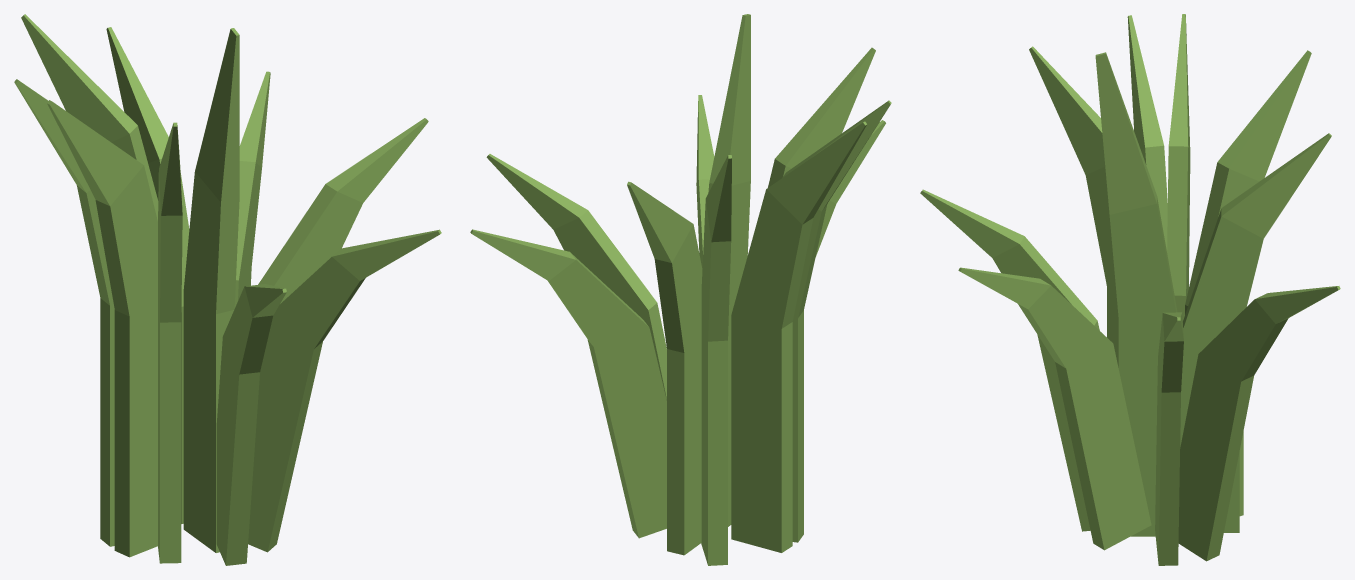
The model's file is grass1.fbx.
The picture shows the model from 3 angles, left to right: view 1: azimuth 30°, elevation 25°; view 2: azimuth 150°, elevation 25°; view 3: azimuth 270°, elevation 25°; orthographic projection. The views are drawn at different scales.
Visible parts, largest first — view 1: Cube.074; view 2: Cube.074; view 3: Cube.074.
Part boxes in pixels (box(x1,y1,x2,y2)): Cube.074: box(14, 14, 441, 565); Cube.074: box(470, 14, 891, 565); Cube.074: box(920, 14, 1340, 565).
Size of the model in its own units: 145 by 179 by 142.
Materials: 1 (1 with a texture image).
